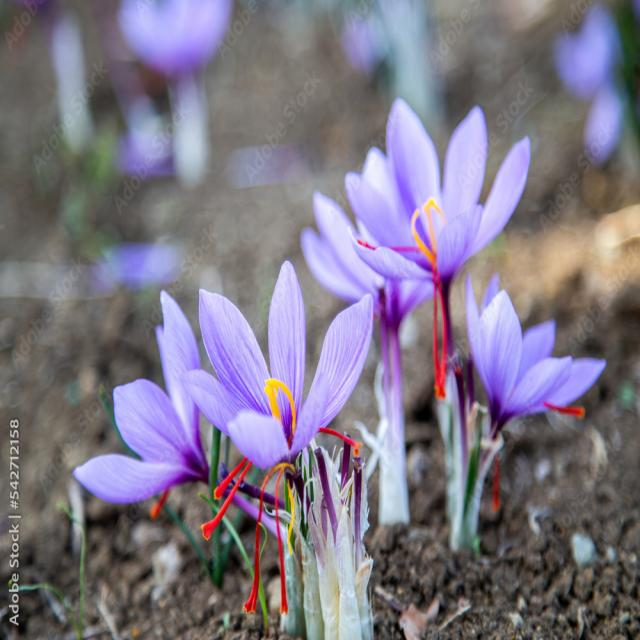saffron open: (346, 99, 530, 397), (184, 262, 372, 508), (301, 191, 432, 525), (74, 292, 210, 504), (468, 278, 605, 437), (231, 489, 259, 520)
